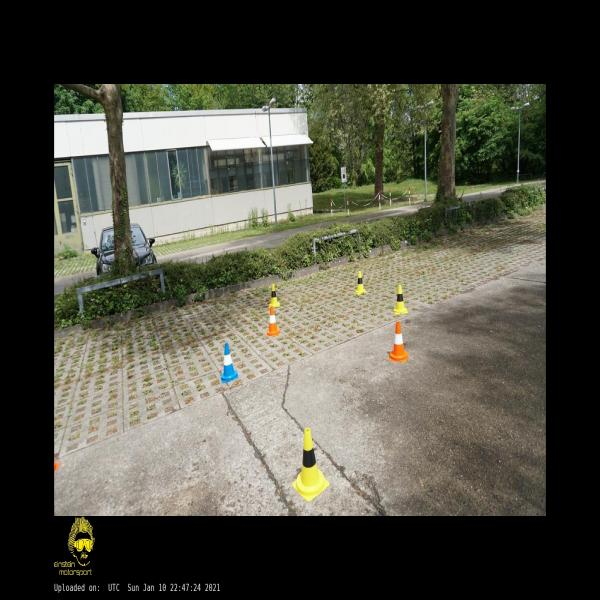blue_cone: (221, 343, 238, 383)
orange_cone: (389, 322, 408, 361), (267, 307, 280, 336)
yellow_cone: (292, 428, 330, 502), (394, 285, 408, 314), (269, 284, 280, 307), (355, 271, 365, 294)
